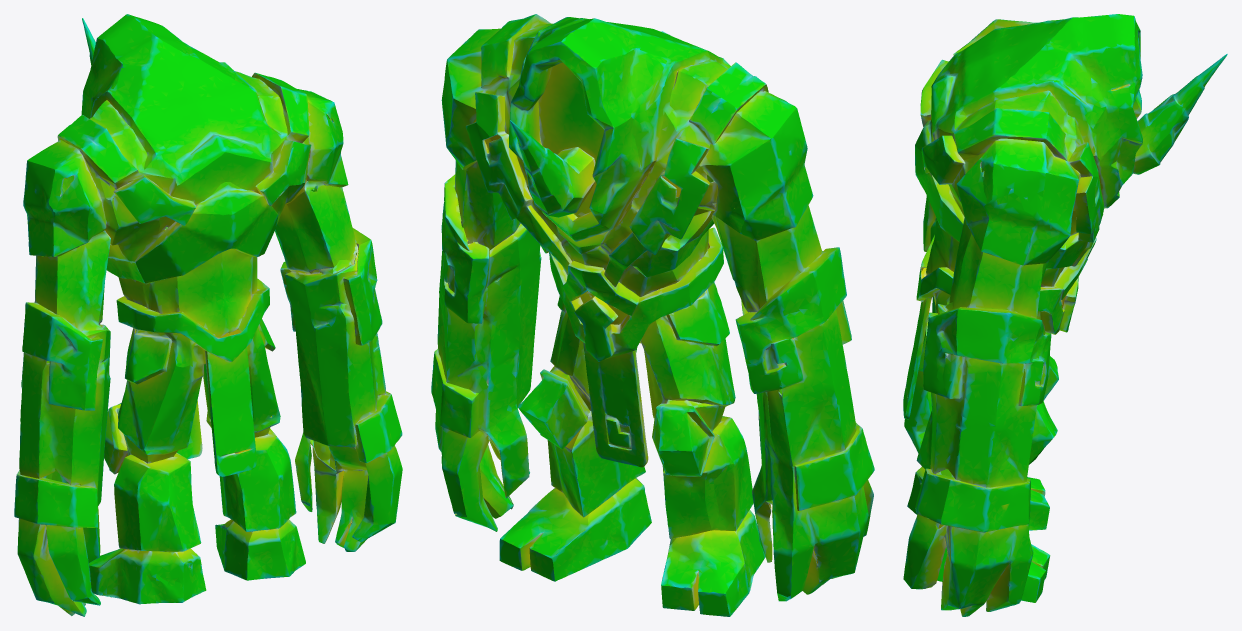
File: StoneSentinel_outline.fbx
3 renders of one model, left to right at view 1: azimuth 30°, elevation 25°; view 2: azimuth 150°, elevation 25°; view 3: azimuth 270°, elevation 25°, orthographic. The views are drawn at different scales.
Visible parts, largest first — view 1: StoneSentinel_outline; view 2: StoneSentinel_outline; view 3: StoneSentinel_outline.
Part boxes in pixels (x1,y1,x2,y2): StoneSentinel_outline: (14,14,402,616); StoneSentinel_outline: (431,14,874,616); StoneSentinel_outline: (903,14,1227,616).
Size of the model in its own units: 166 by 220 by 120.
